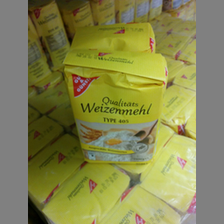flour: (64, 22, 167, 165)
